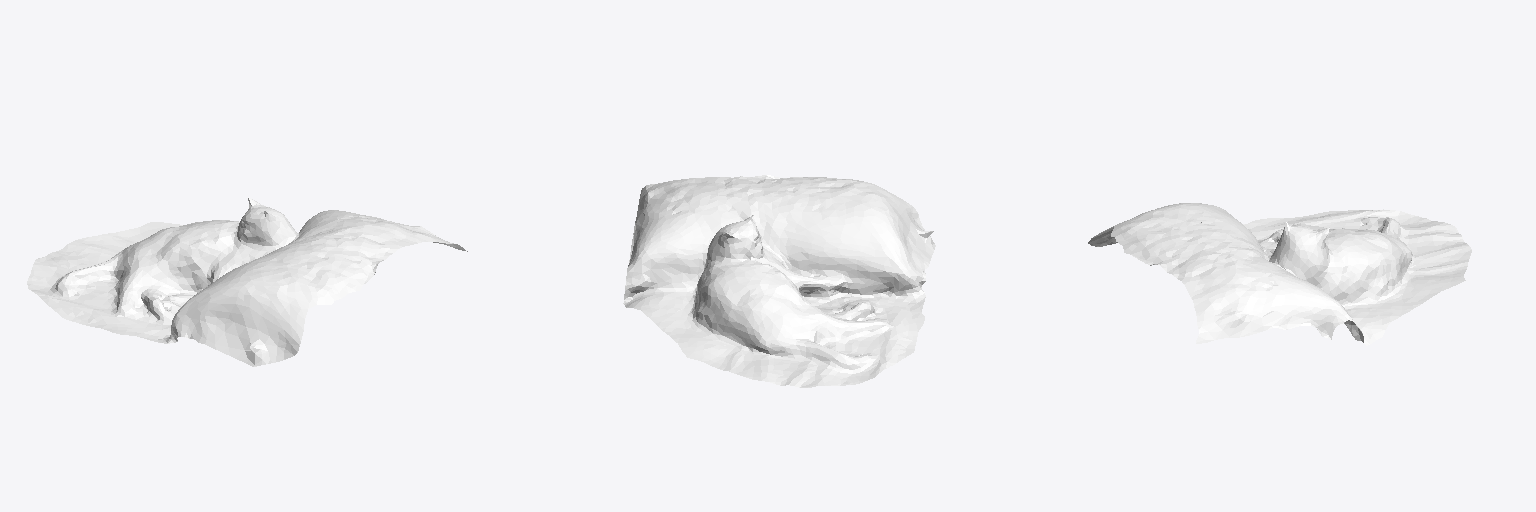
Rendered from cat3model.obj.
3 renders of one model, left to right at view 1: azimuth 30°, elevation 25°; view 2: azimuth 150°, elevation 25°; view 3: azimuth 270°, elevation 25°, orthographic.
Parts seen in each view (by area): view 1: Default; view 2: Default; view 3: Default.
Boxes of the visible parts, x1=… form: Default: x1=27, y1=197, x2=467, y2=366; Default: x1=623, y1=175, x2=935, y2=387; Default: x1=1088, y1=203, x2=1471, y2=345.
Size of the model in its own units: 0.8196 by 0.1898 by 0.8054.